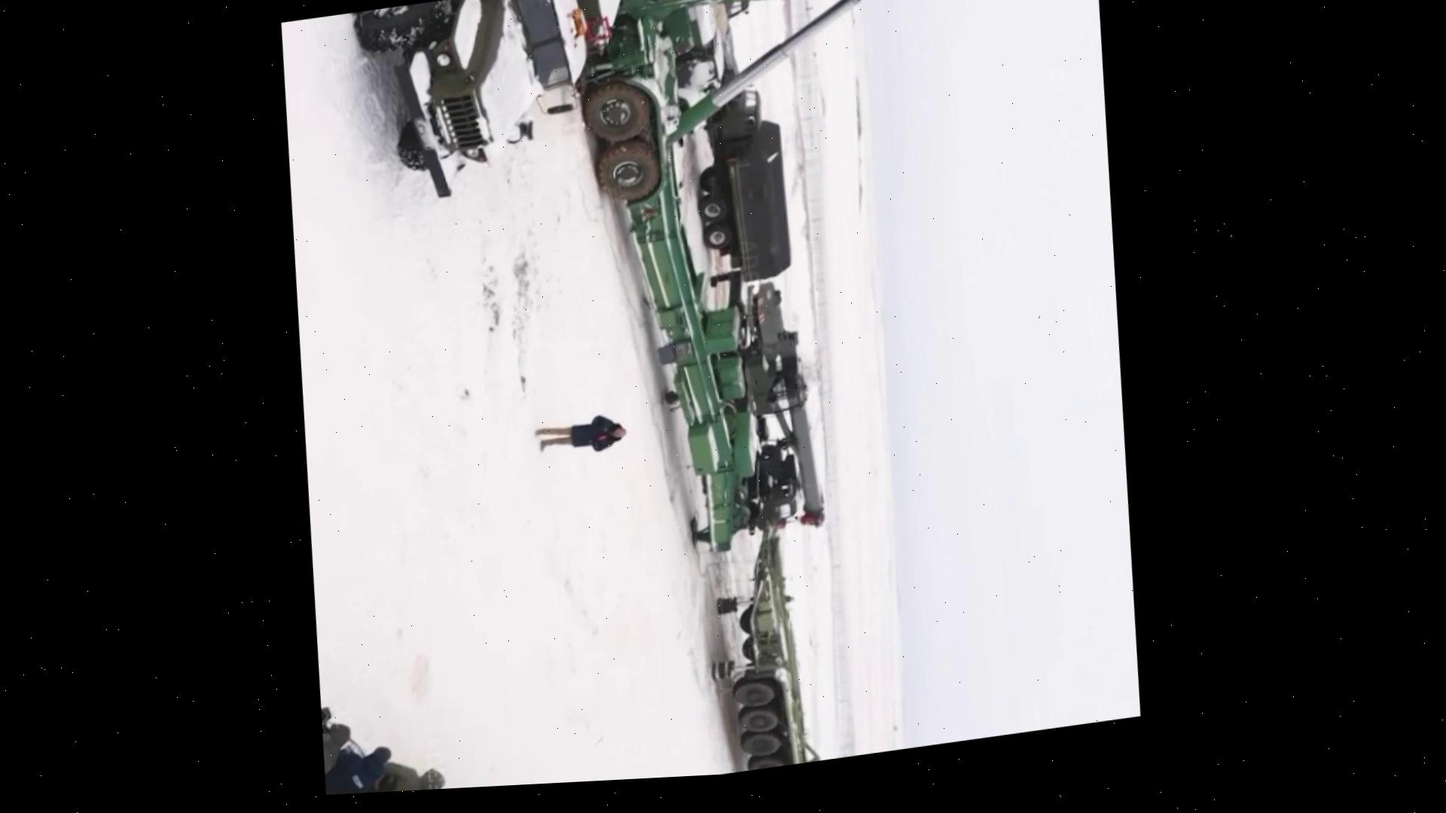person: (534, 409, 631, 460), (322, 736, 396, 795), (377, 751, 448, 792), (325, 769, 398, 795)
truck: (346, 0, 660, 209), (685, 81, 798, 288)
